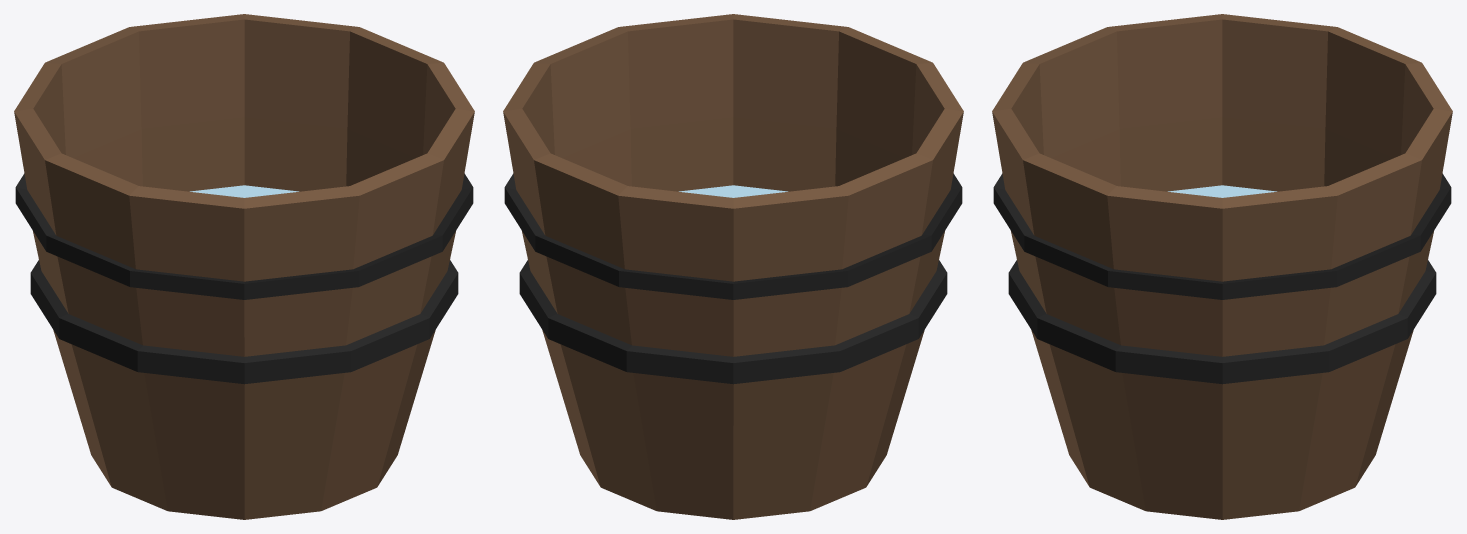
The model's file is bucket.fbx.
The picture shows the model from 3 angles, left to right: view 1: azimuth 30°, elevation 25°; view 2: azimuth 150°, elevation 25°; view 3: azimuth 270°, elevation 25°; orthographic projection.
Parts seen in each view (by area): view 1: Bucket; view 2: Bucket; view 3: Bucket.
Part boxes in pixels (x1,y1,x2,y2): Bucket: (14,14,474,519); Bucket: (503,14,963,519); Bucket: (992,14,1452,519).
Bounding box in the file's own units: 69.9 × 57.99 × 69.9.
